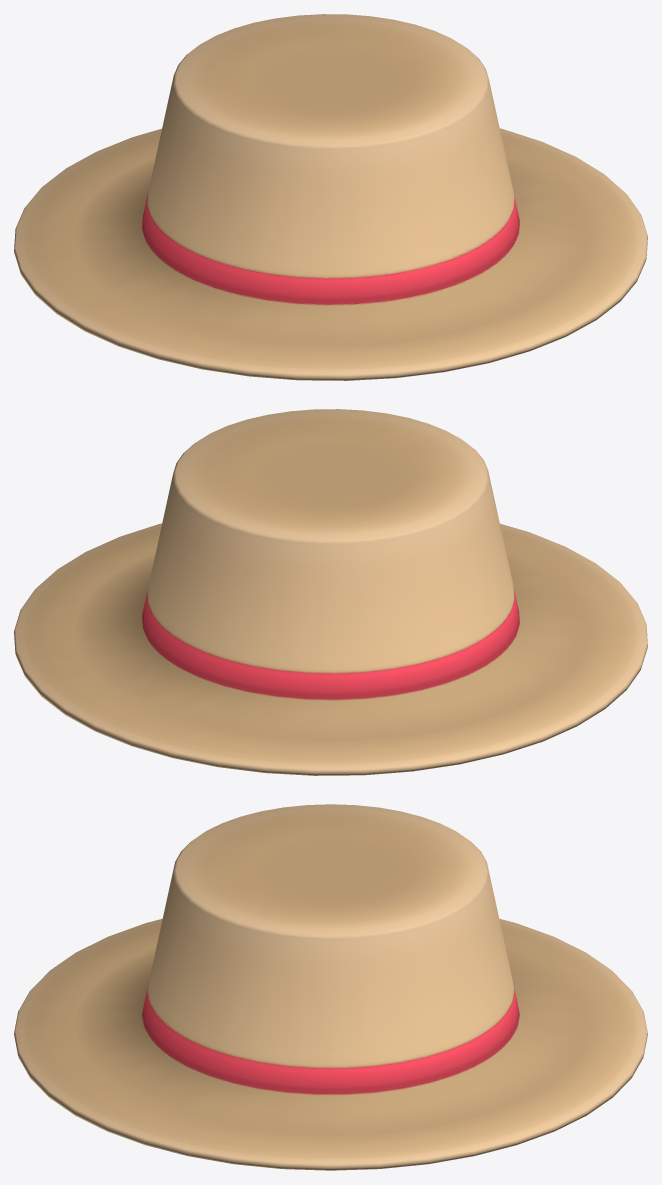
File: Sunhead Red.fbx
3 views of the same model, one above another, from view 1: azimuth 30°, elevation 25°; view 2: azimuth 150°, elevation 25°; view 3: azimuth 270°, elevation 25° (orthographic).
Parts seen in each view (by area): view 1: Sunhead Red; view 2: Sunhead Red; view 3: Sunhead Red.
Part boxes in pixels (bbox=[...]): Sunhead Red: bbox=[14, 14, 647, 380]; Sunhead Red: bbox=[14, 409, 647, 775]; Sunhead Red: bbox=[14, 804, 647, 1170].
Bounding box in the file's own units: 60.23 × 17.58 × 60.26.
